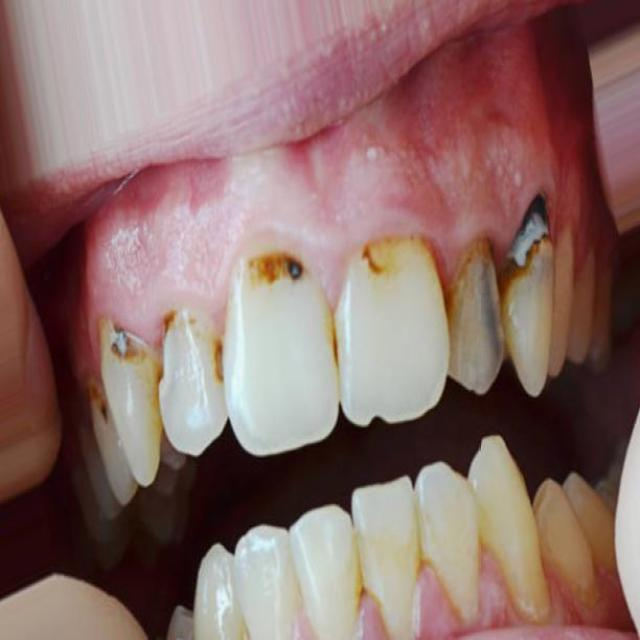caries: (504, 191, 560, 284), (245, 238, 319, 304), (143, 310, 178, 392), (101, 318, 145, 377), (204, 325, 237, 398), (89, 390, 114, 434)
